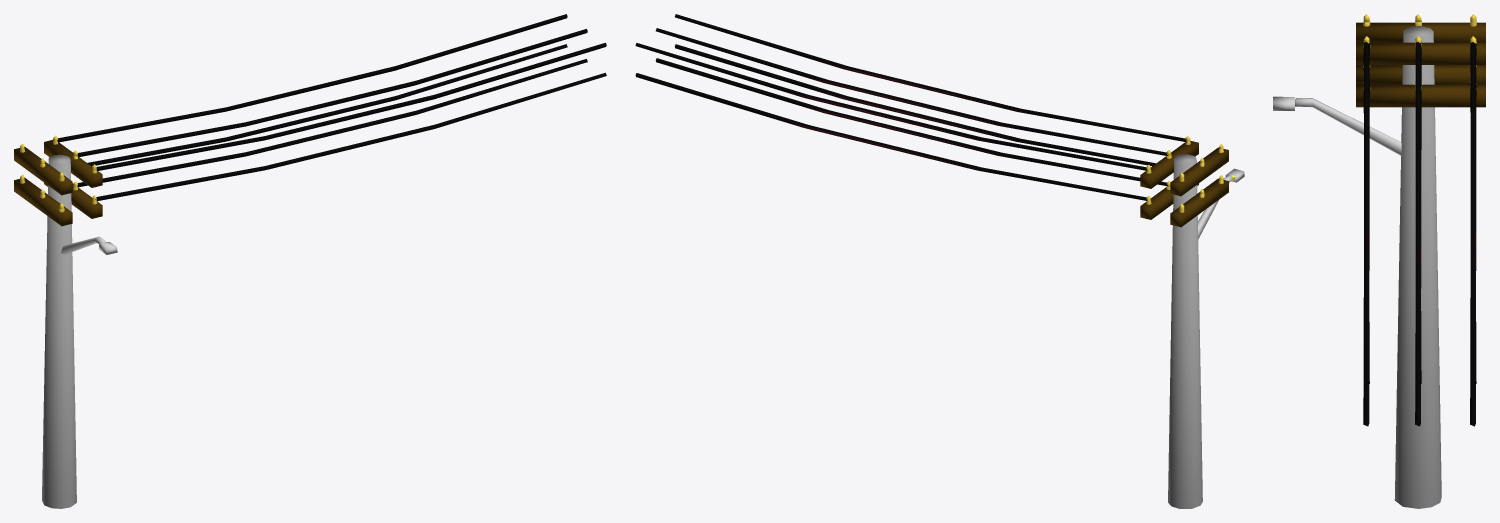
Rendered from PosteDeLuzFiosLadoDireitoLOD0.fbx.
3 views of the same model, side by side, from view 1: azimuth 30°, elevation 25°; view 2: azimuth 150°, elevation 25°; view 3: azimuth 270°, elevation 25° (orthographic). The views are drawn at different scales.
Parts seen in each view (by area): view 1: PosteDeLuzFiosLadoDireitoLOD0; view 2: PosteDeLuzFiosLadoDireitoLOD0; view 3: PosteDeLuzFiosLadoDireitoLOD0.
Boxes of the visible parts, bbox=[...] form: PosteDeLuzFiosLadoDireitoLOD0: bbox=[14, 14, 606, 508]; PosteDeLuzFiosLadoDireitoLOD0: bbox=[635, 14, 1244, 508]; PosteDeLuzFiosLadoDireitoLOD0: bbox=[1273, 14, 1485, 508].
Bounding box in the file's own units: 1215 × 736 × 299.
